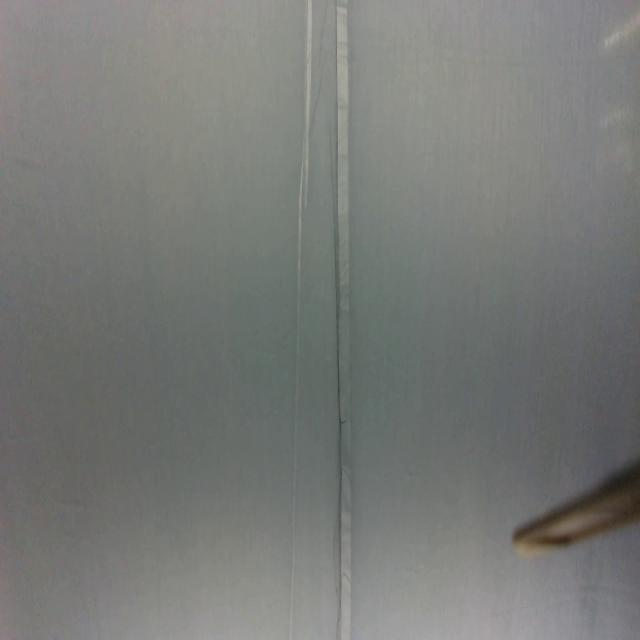crease: (288, 0, 314, 640), (331, 0, 354, 639)
